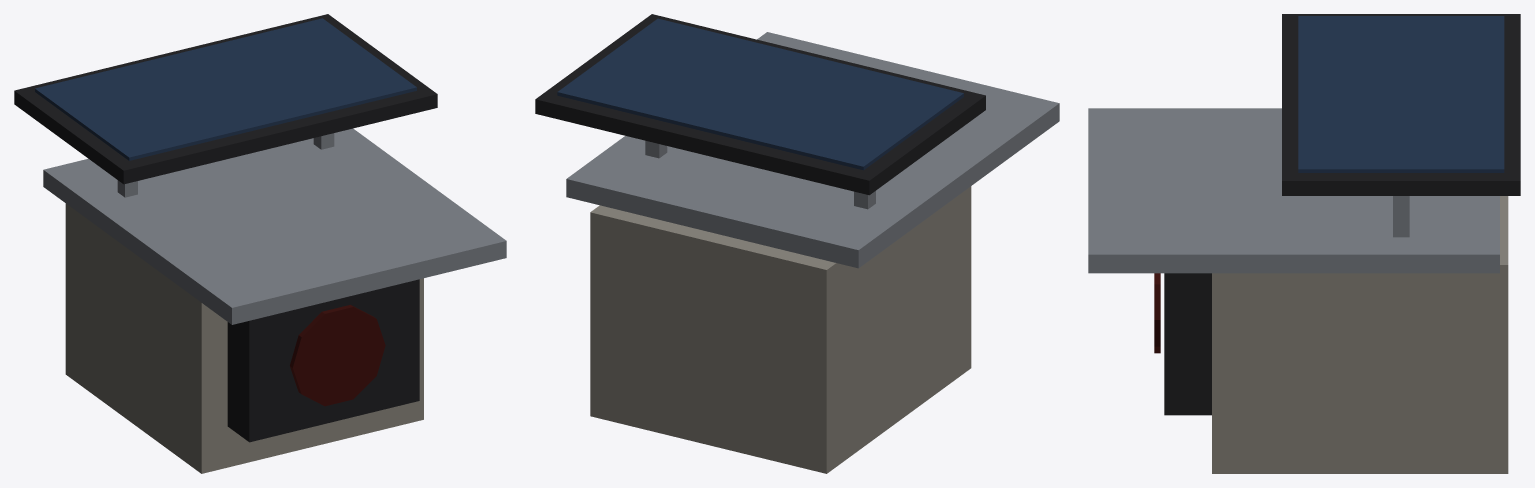
Rendered from V2_thermal_camera_housing_a.glb.
3 views of the same model, side by side, from view 1: azimuth 30°, elevation 25°; view 2: azimuth 150°, elevation 25°; view 3: azimuth 270°, elevation 25° (orthographic). The views are drawn at different scales.
Parts seen in each view (by area): view 1: V2_thermal_camera_housing_a; view 2: V2_thermal_camera_housing_a; view 3: V2_thermal_camera_housing_a.
Part boxes in pixels (left/top/right/bottom): V2_thermal_camera_housing_a: left=14, top=14, right=506, bottom=473; V2_thermal_camera_housing_a: left=535, top=14, right=1059, bottom=473; V2_thermal_camera_housing_a: left=1088, top=14, right=1520, bottom=473.
Size of the model in its own units: 0.4571 by 0.411 by 0.5.
